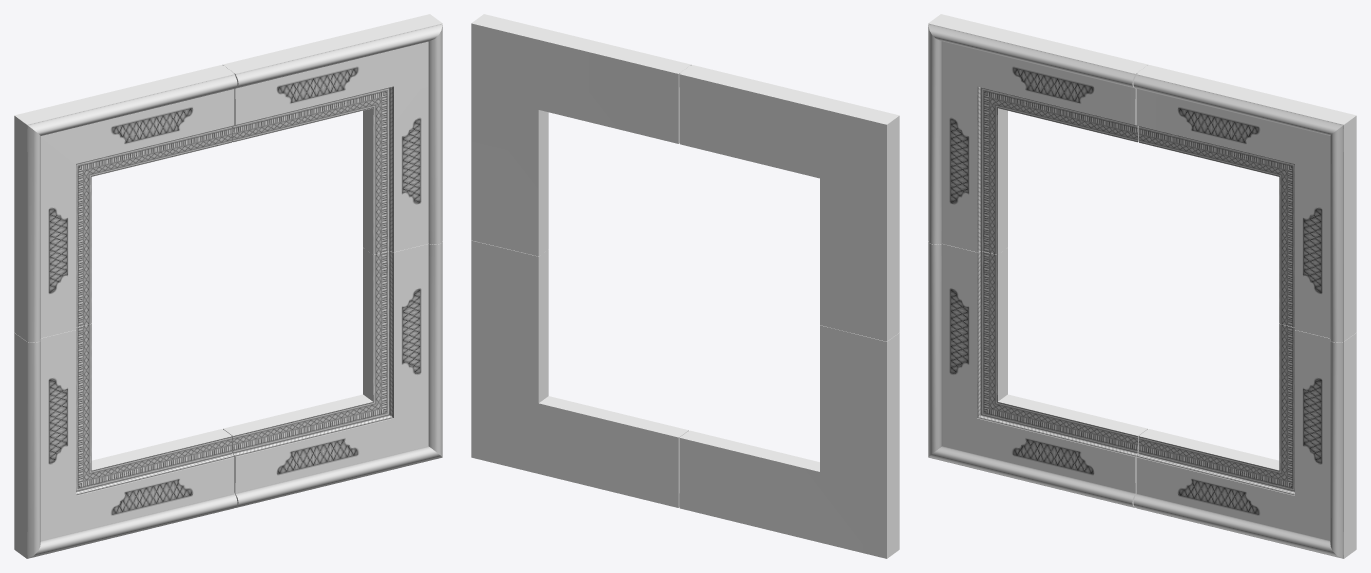
Rendered from Slidable_Frame_Ornate_1_Mesh 1.fbx.
3 renders of one model, left to right at view 1: azimuth 30°, elevation 25°; view 2: azimuth 150°, elevation 25°; view 3: azimuth 330°, elevation 25°, orthographic.
Parts seen in each view (by area): view 1: Top_Left_Corner, Bottom_Left_Corner, Top_Right_Corner, Bottom_Right_Corner; view 2: Top_Left_Corner, Bottom_Left_Corner, Top_Right_Corner, Bottom_Right_Corner; view 3: Top_Right_Corner, Bottom_Right_Corner, Top_Left_Corner, Bottom_Left_Corner.
Part boxes in pixels (x1,y1,x2,y2): Top_Left_Corner: [14, 65, 237, 342]; Bottom_Left_Corner: [14, 323, 237, 558]; Top_Right_Corner: [222, 14, 442, 254]; Bottom_Right_Corner: [223, 241, 442, 507]; Top_Left_Corner: [679, 65, 899, 341]; Bottom_Left_Corner: [679, 325, 899, 558]; Top_Right_Corner: [471, 14, 691, 256]; Bottom_Right_Corner: [471, 240, 688, 507]; Top_Right_Corner: [1133, 65, 1356, 342]; Bottom_Right_Corner: [1133, 323, 1356, 558]; Top_Left_Corner: [928, 14, 1148, 254]; Bottom_Left_Corner: [928, 241, 1147, 507].
Bounding box in the file's own units: 167 × 166 × 11.2.
Materials: 1 (1 with a texture image).
